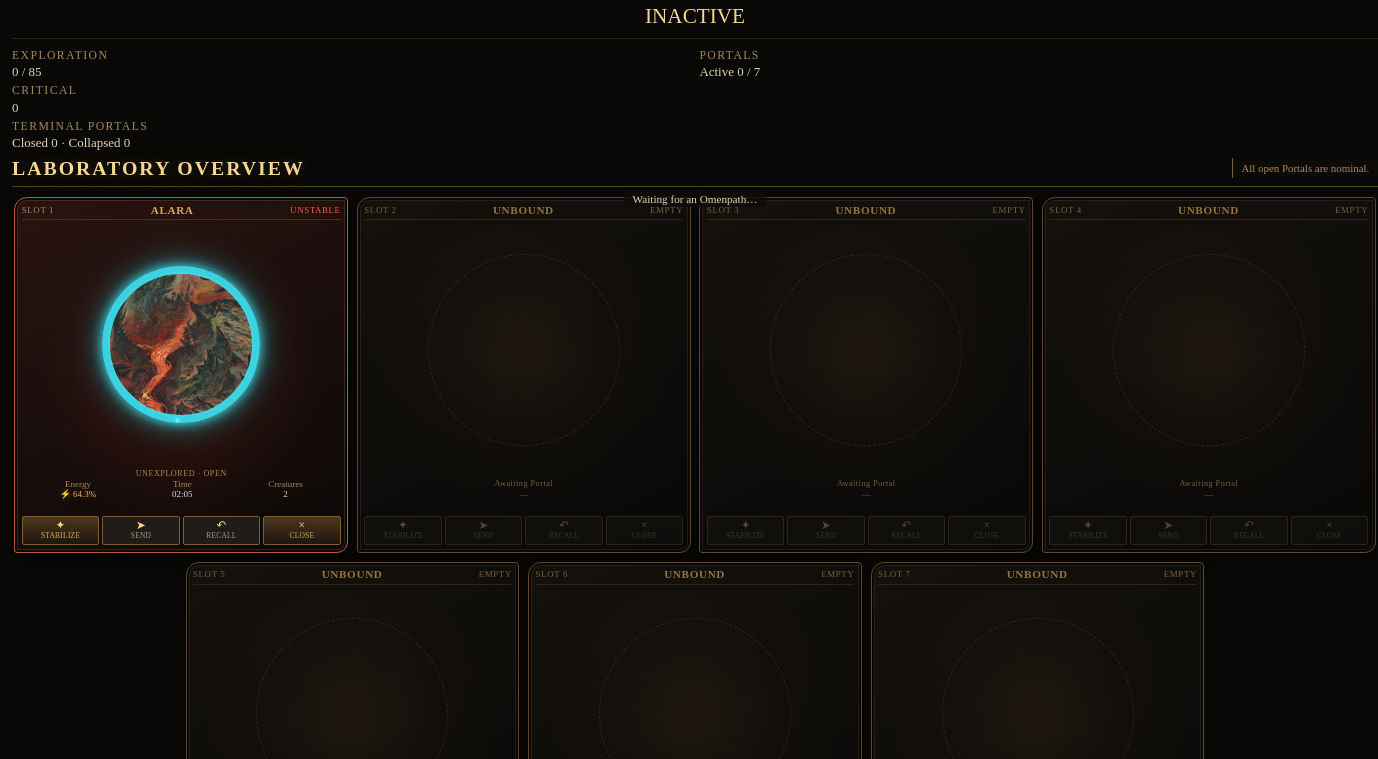
Test: DashboardPage › uses the occupied card as the only pointer Details affordance
(page scrolled)
Click the link named "Inspect Omenpath #0001 on Alara" at (181, 375), box [15,198,347,552]
(page scrolled)
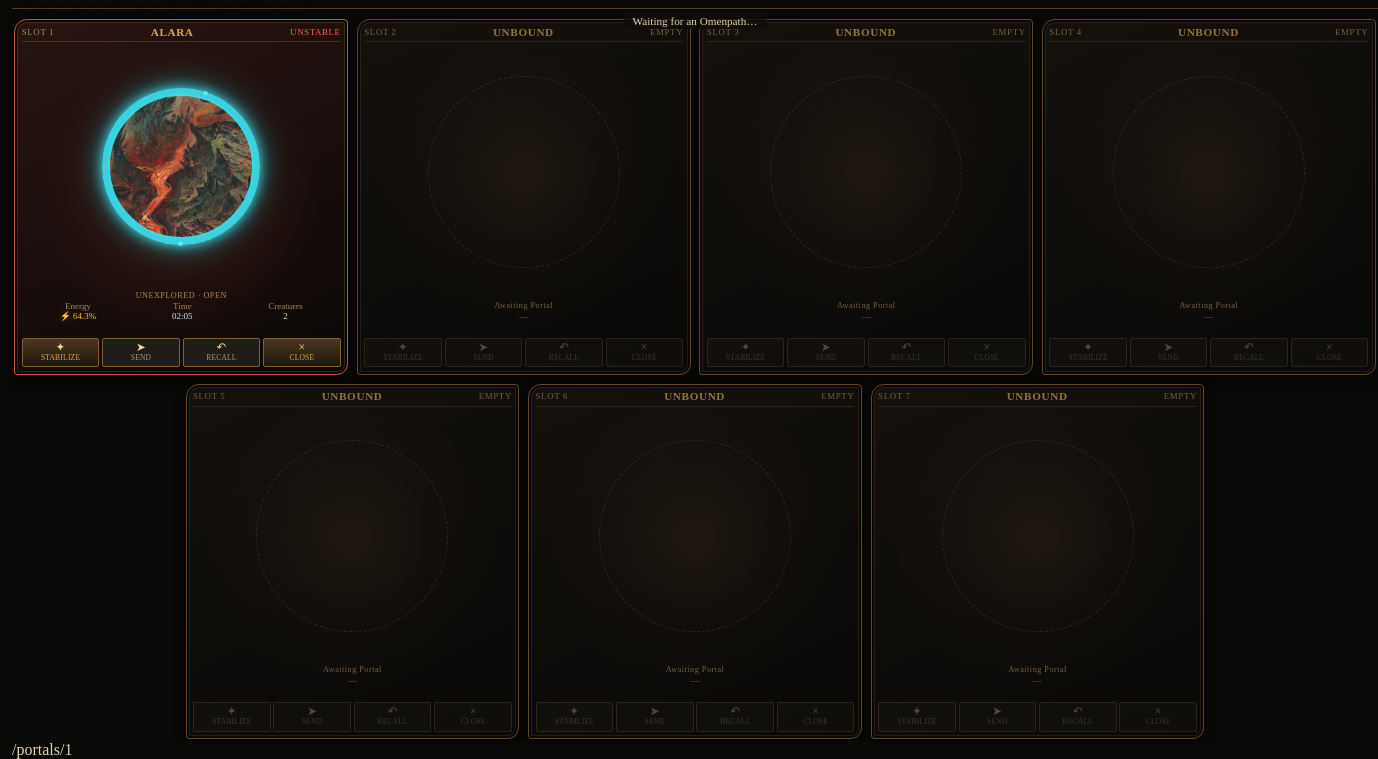
Result: the text with test id "location" reads "/portals/1" at [12,741,72,758]
